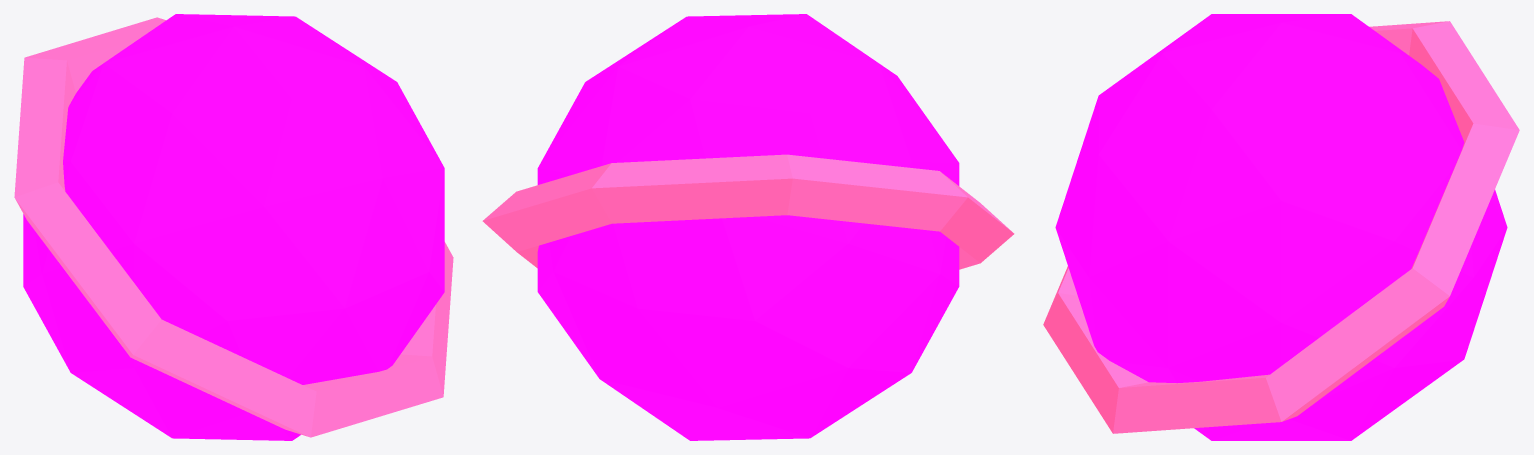
File: eshot.fbx
3 views of the same model, side by side, from view 1: azimuth 30°, elevation 25°; view 2: azimuth 150°, elevation 25°; view 3: azimuth 270°, elevation 25° (orthographic).
Visible parts, largest first — view 1: SM_eshot_MAT_GlowMagenta, SM_eshot_MAT_GlowRed; view 2: SM_eshot_MAT_GlowMagenta, SM_eshot_MAT_GlowRed; view 3: SM_eshot_MAT_GlowMagenta, SM_eshot_MAT_GlowRed.
Part boxes in pixels (box(x1,y1,x2,y2)): SM_eshot_MAT_GlowMagenta: box(23, 14, 444, 440); SM_eshot_MAT_GlowRed: box(14, 17, 453, 437); SM_eshot_MAT_GlowMagenta: box(537, 14, 959, 440); SM_eshot_MAT_GlowRed: box(482, 154, 1014, 269); SM_eshot_MAT_GlowMagenta: box(1055, 14, 1507, 440); SM_eshot_MAT_GlowRed: box(1043, 21, 1519, 433).
Size of the model in its own units: 0.7367 by 0.644 by 0.679.
